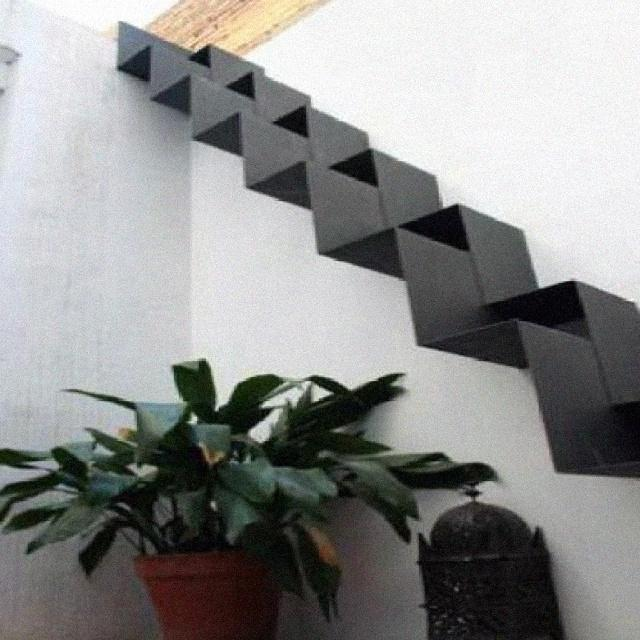stair: (88, 18, 638, 464)
